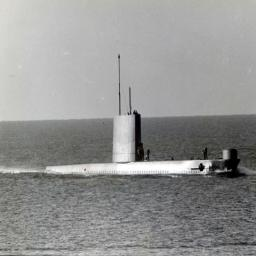submarine: (48, 53, 240, 173)
